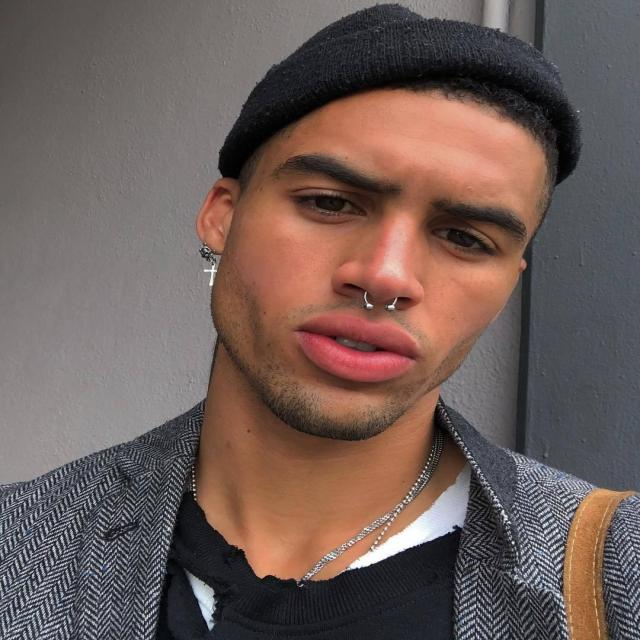earlobe: (196, 177, 240, 256)
